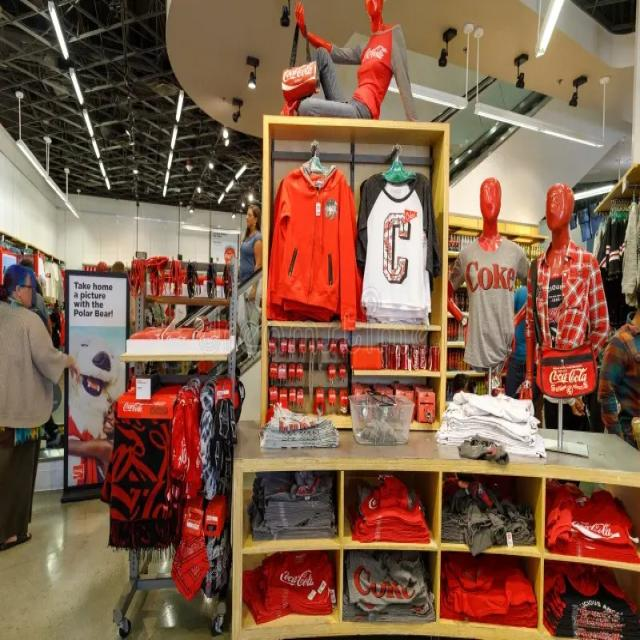coca cola: (544, 356, 599, 403), (270, 558, 324, 604)
